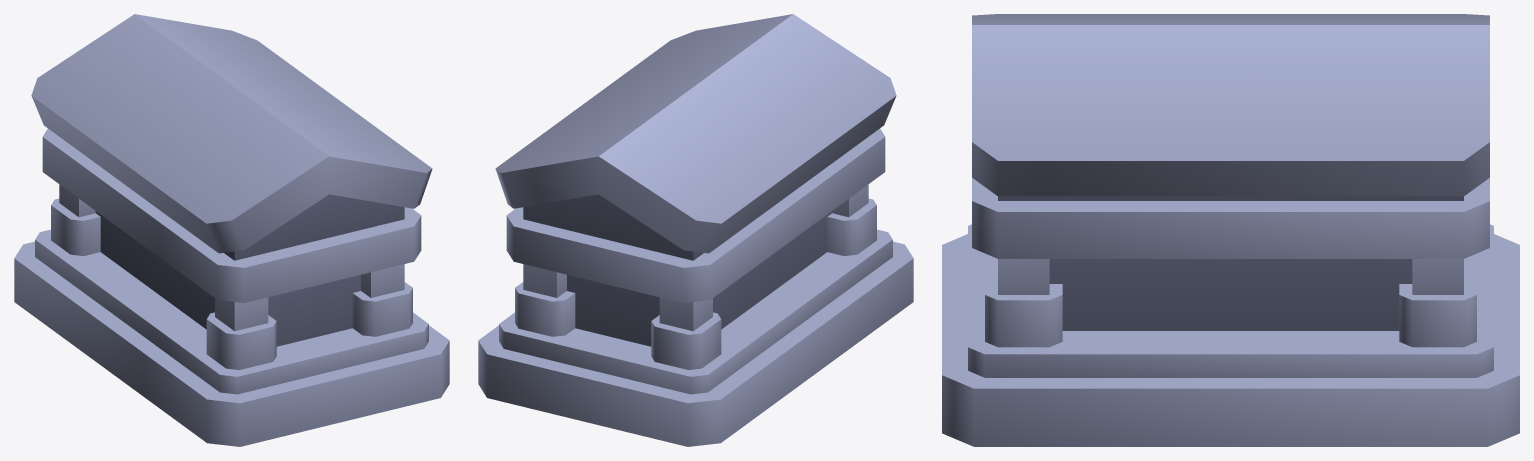
Rendered from crypt.glb.
3 renders of one model, left to right at view 1: azimuth 30°, elevation 25°; view 2: azimuth 150°, elevation 25°; view 3: azimuth 270°, elevation 25°, orthographic. The views are drawn at different scales.
Parts seen in each view (by area): view 1: crypt; view 2: crypt; view 3: crypt.
Boxes of the visible parts, x1,y1,x2,y2 form: crypt: [14, 14, 449, 446]; crypt: [478, 14, 913, 446]; crypt: [942, 14, 1519, 446].
Bounding box in the file's own units: 14.4 × 14.63 × 22.32.
Materials: 1 (1 with a texture image).
